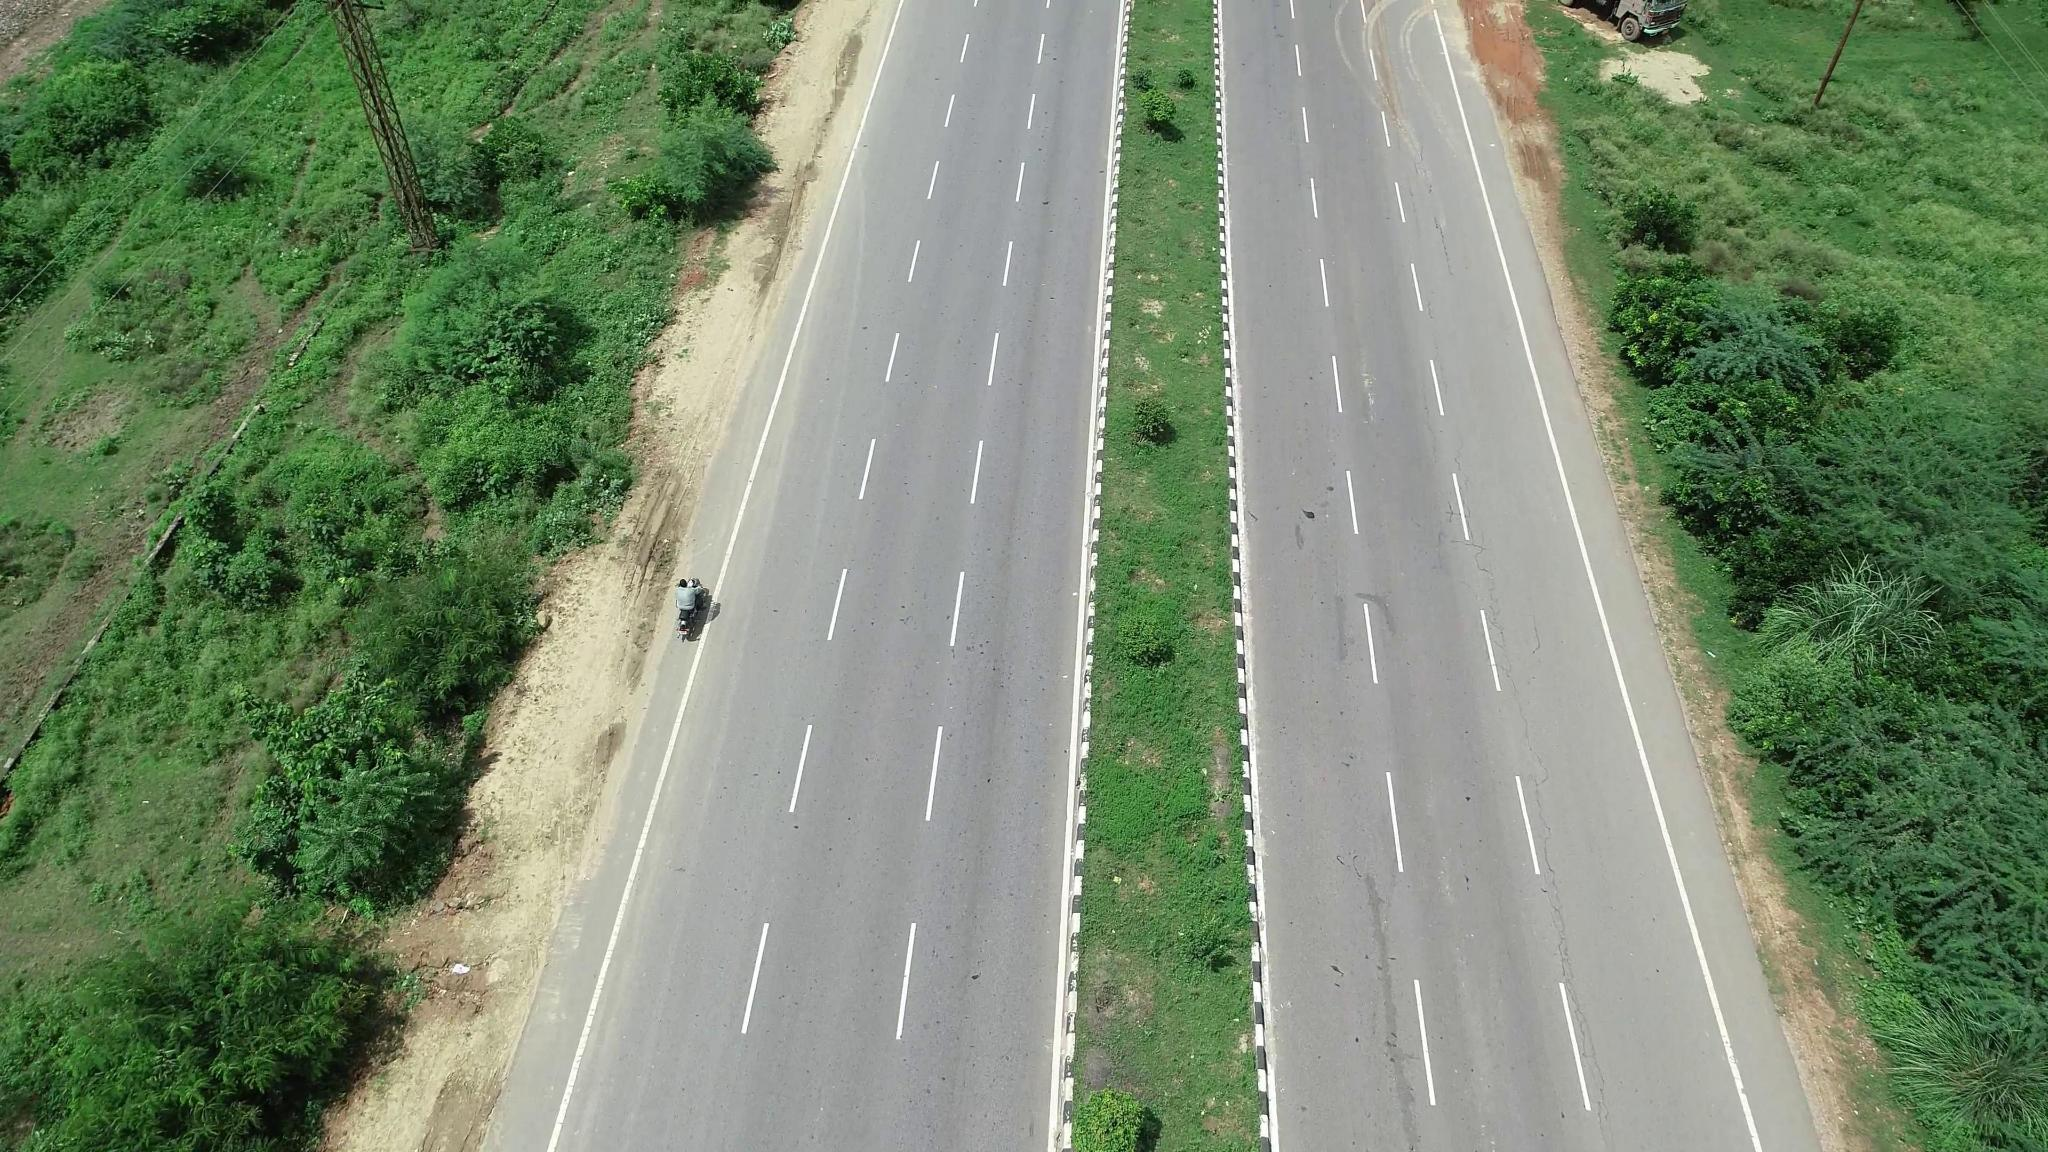Ravelling: (1528, 738, 1582, 993), (1471, 529, 1523, 703)
